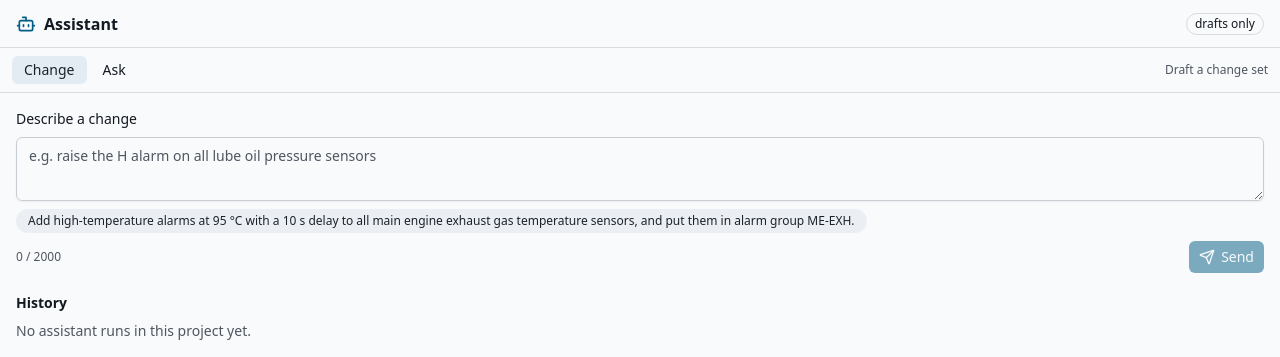
Test: Ask mode › shows the knowledge status line and the example chip fills the box
This screenshot has width=1280, height=357.
Click the tab "Ask": (114, 70) x1=90 y1=56 x2=138 y2=84
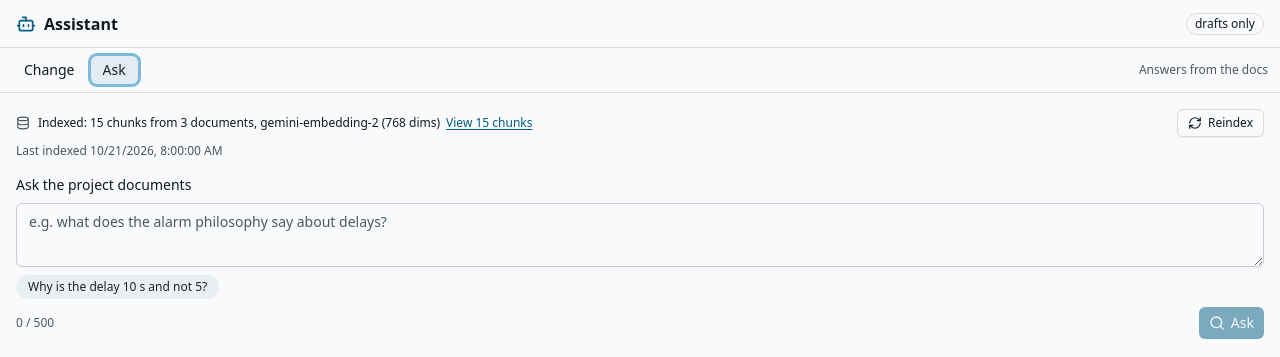
expect the element with test id "knowledge-status" shows "Indexed: 15 chunks from 3 documents, gemini-embedding-2 (768 dims)": met, box x1=16 y1=109 x2=1264 y2=159
Click the button "Why is the delay 10 s and not 5?": (118, 287) x1=16 y1=275 x2=219 y2=299
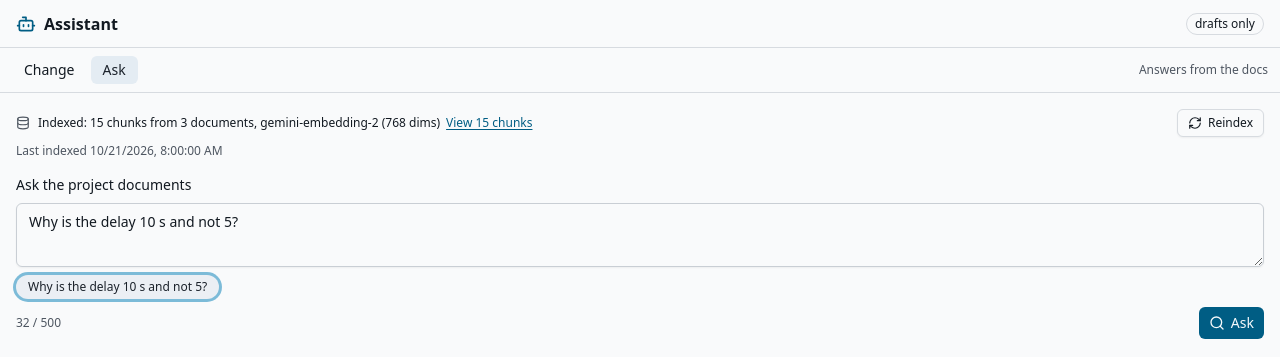
expect the text box labelled "Ask the project documents" holds "Why is the delay 10 s and not 5?": met, box x1=16 y1=203 x2=1264 y2=267
